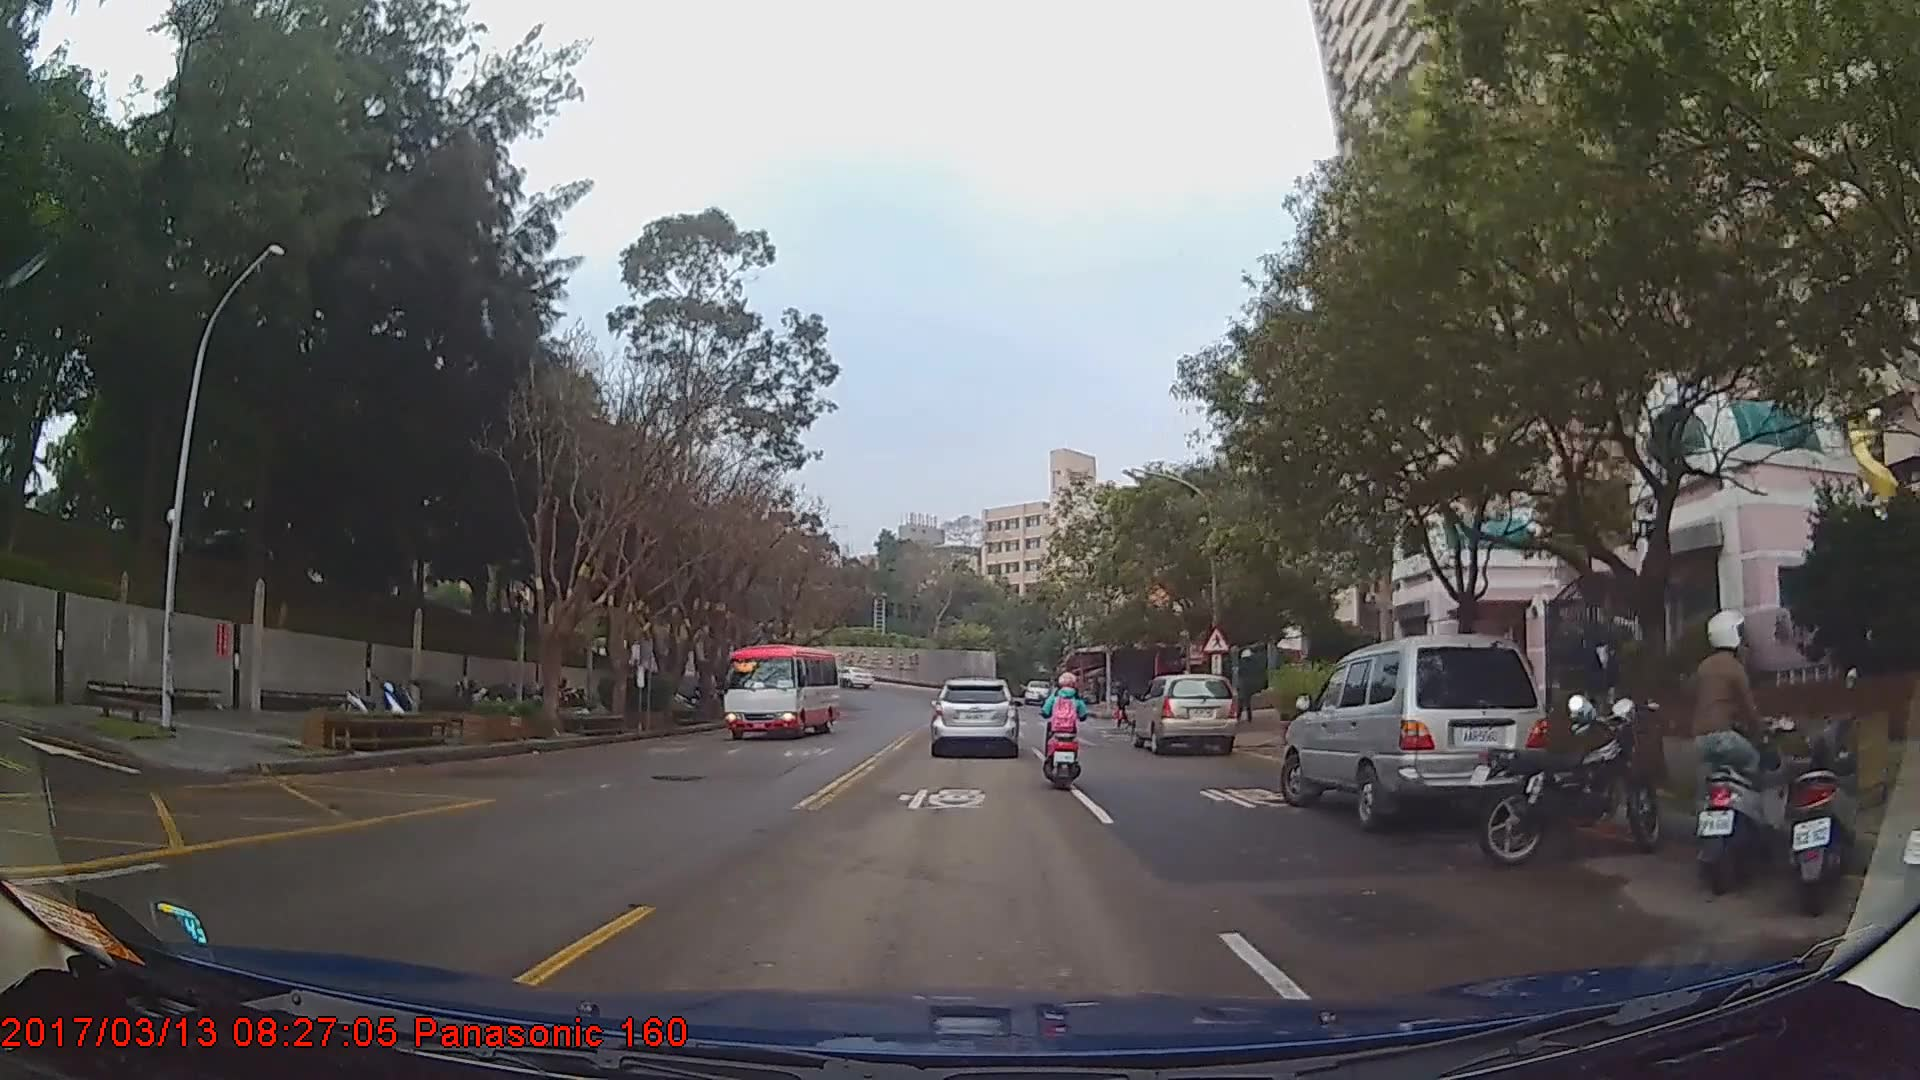pedestrian: (1113, 677, 1137, 733)
rider: (1036, 667, 1091, 797)
vehicle: (1283, 629, 1559, 832), (720, 643, 838, 740), (1132, 674, 1237, 755), (929, 676, 1021, 758), (828, 662, 871, 689)
